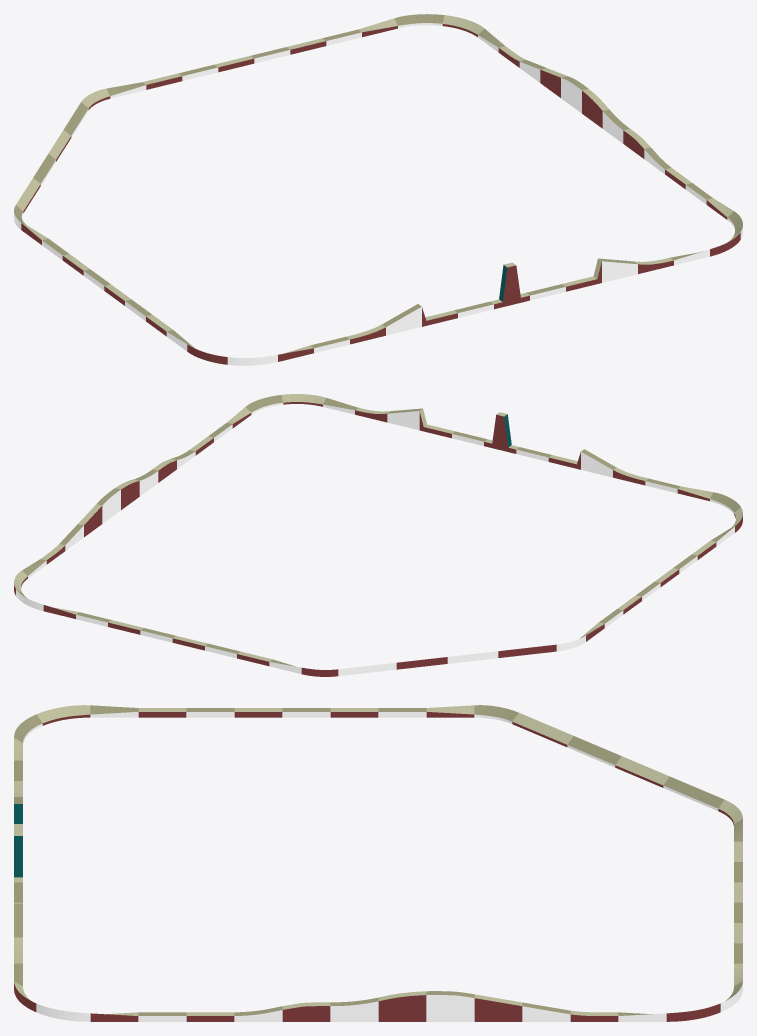
Rendered from high-jump.glb.
3 renders of one model, top to bottom at view 1: azimuth 30°, elevation 25°; view 2: azimuth 150°, elevation 25°; view 3: azimuth 270°, elevation 25°, orthographic. The views are drawn at different scales.
Parts seen in each view (by area): view 1: high-jump; view 2: high-jump; view 3: high-jump.
Boxes of the visible parts, x1,y1,x2,y2 form: high-jump: (14,14,742,365); high-jump: (14,394,742,676); high-jump: (14,705,742,1021).
Bounding box in the file's own units: 30.38 × 2.05 × 30.38.
